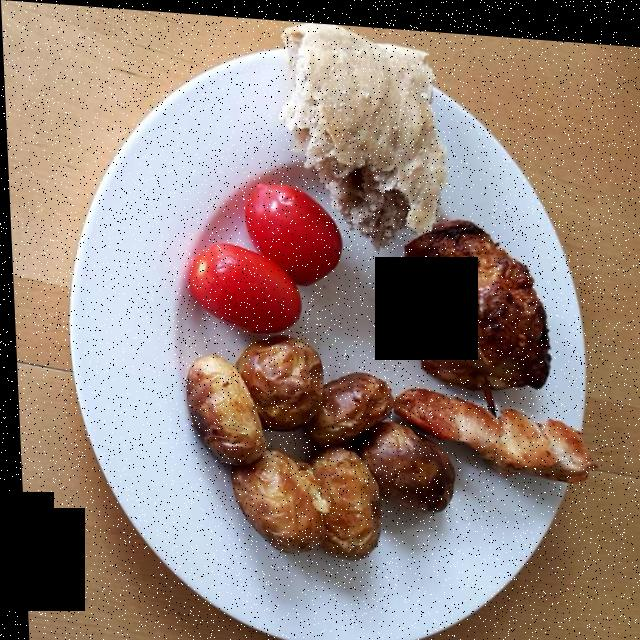baked-potato: (182, 343, 450, 551)
bread-wholemeal: (295, 27, 453, 243)
chicken: (397, 220, 585, 466)
tomato-raw: (191, 174, 339, 327)
